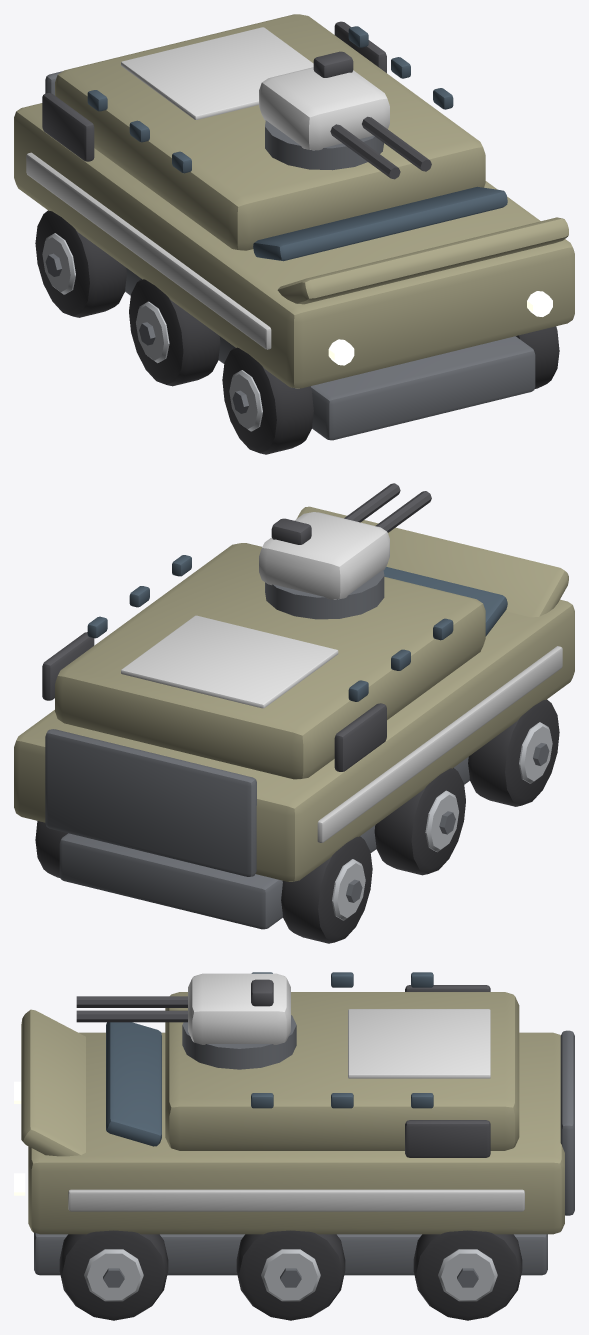
The model's file is apc.glb.
3 views of the same model, one above another, from view 1: azimuth 30°, elevation 25°; view 2: azimuth 150°, elevation 25°; view 3: azimuth 270°, elevation 25° (orthographic). The views are drawn at different scales.
Parts seen in each view (by area): view 1: apc, turret; view 2: apc, turret; view 3: apc, turret.
Part boxes in pixels (x1,y1,x2,y2): apc: (14, 14, 574, 454); turret: (259, 51, 431, 179); apc: (14, 506, 574, 943); turret: (259, 483, 431, 619); apc: (14, 972, 574, 1320); turret: (76, 973, 296, 1069).
Size of the model in its own units: 1.17 by 1.09 by 1.97.
